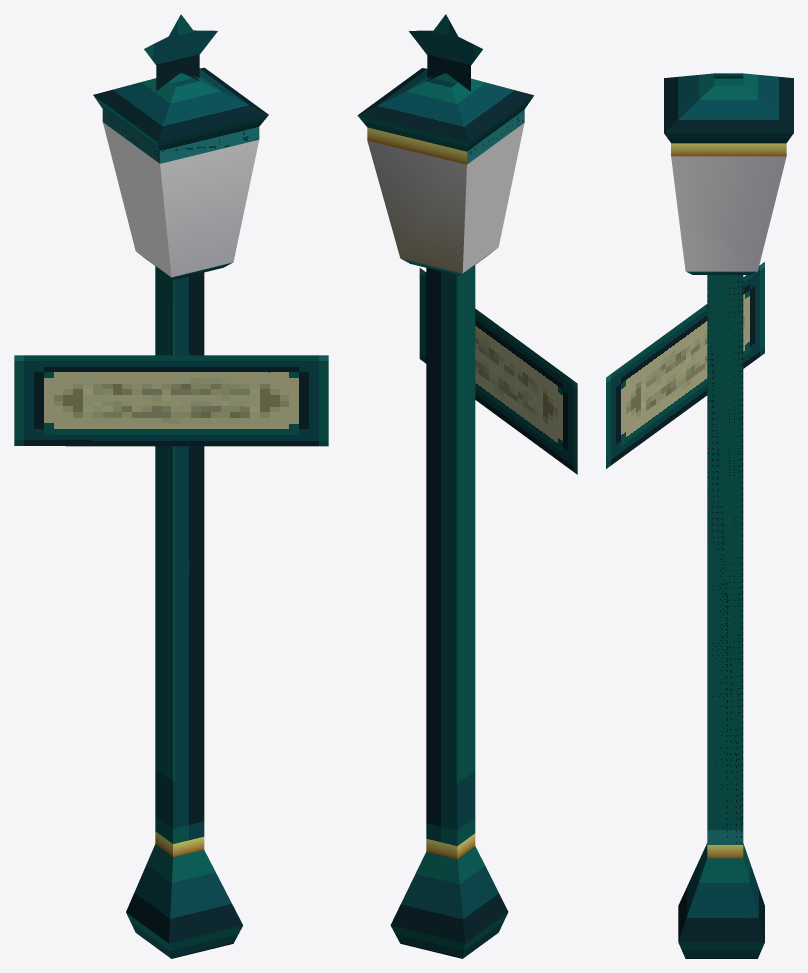
Rendered from lamp_shadowless.obj.
The picture shows the model from 3 angles, left to right: view 1: azimuth 30°, elevation 25°; view 2: azimuth 150°, elevation 25°; view 3: azimuth 270°, elevation 25°; orthographic projection.
Bounding box in the file's own units: 0.038 × 0.142 × 0.026.
2 materials, 1 textured.
